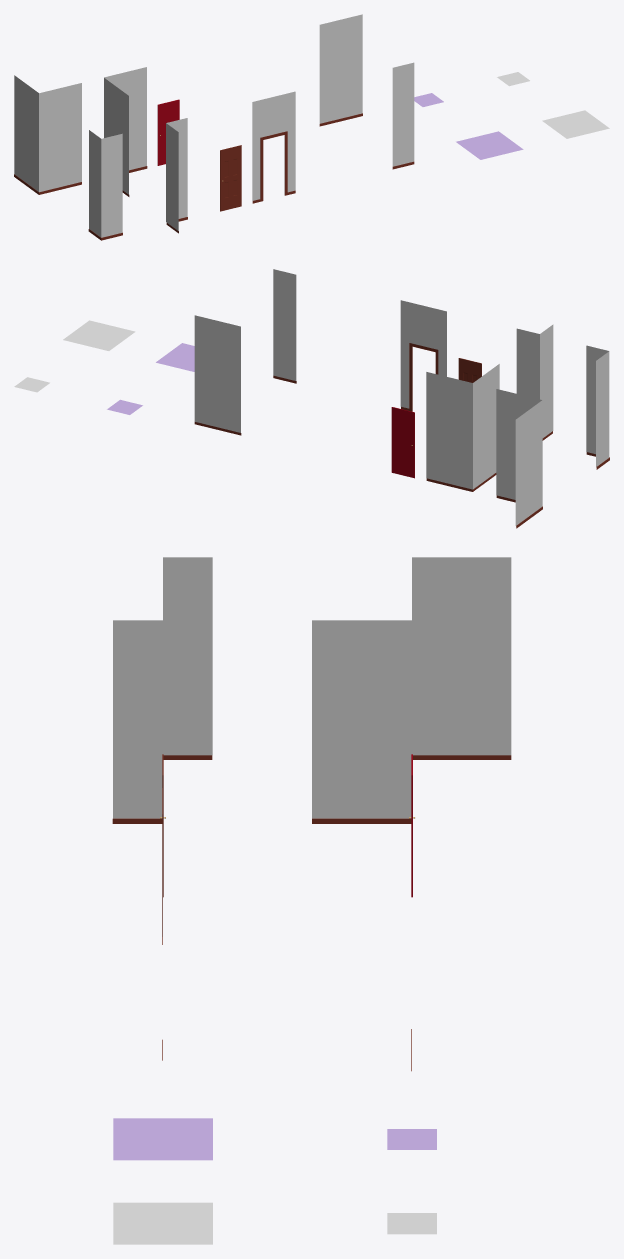
File: Modular_RoomPiecesTemp.fbx
The picture shows the model from 3 angles, top to bottom: view 1: azimuth 30°, elevation 25°; view 2: azimuth 150°, elevation 25°; view 3: azimuth 270°, elevation 25°; orthographic projection. The views are drawn at different scales.
Parts seen in each view (by area): view 1: Wall_InsideCorner_2x2, Wall_2, Wall_Corner_2x2, Wall_InsideCorner_1x1, Doorway, Wall_1, Wall_Corner_1x1, Door, FloorTile_2x2, CeilingTile_2x2, ExitDoor; view 2: Wall_Corner_2x2, Wall_InsideCorner_2x2, Wall_2, Doorway, Wall_Corner_1x1, Wall_InsideCorner_1x1, Wall_1, ExitDoor, CeilingTile_2x2, FloorTile_2x2, Door; view 3: Wall_Corner_2x2, Wall_InsideCorner_2x2, Wall_Corner_1x1, Wall_InsideCorner_1x1, FloorTile_2x2, CeilingTile_2x2, CeilingTile_1x1, FloorTile_1x1.
Part boxes in pixels (left/top/right/bottom): Wall_InsideCorner_2x2: left=14, top=75, right=81, bottom=194; Wall_2: left=319, top=14, right=362, bottom=126; Wall_Corner_2x2: left=104, top=67, right=147, bottom=196; Wall_InsideCorner_1x1: left=88, top=130, right=122, bottom=240; Doorway: left=252, top=91, right=295, bottom=203; Wall_1: left=392, top=62, right=414, bottom=169; Wall_Corner_1x1: left=166, top=118, right=187, bottom=233; Door: left=220, top=145, right=241, bottom=211; FloorTile_2x2: left=456, top=131, right=523, bottom=159; CeilingTile_2x2: left=542, top=110, right=609, bottom=138; ExitDoor: left=157, top=99, right=179, bottom=165; Wall_Corner_2x2: left=426, top=364, right=499, bottom=491; Wall_InsideCorner_2x2: left=496, top=389, right=542, bottom=528; Wall_2: left=194, top=315, right=241, bottom=435; Doorway: left=400, top=300, right=446, bottom=411; Wall_Corner_1x1: left=516, top=324, right=553, bottom=440; Wall_InsideCorner_1x1: left=586, top=345, right=609, bottom=469; Wall_1: left=273, top=269, right=296, bottom=383; ExitDoor: left=391, top=407, right=414, bottom=478; CeilingTile_2x2: left=63, top=320, right=135, bottom=350; FloorTile_2x2: left=156, top=343, right=194, bottom=371; Door: left=458, top=358, right=481, bottom=382; Wall_Corner_2x2: left=312, top=620, right=411, bottom=823; Wall_InsideCorner_2x2: left=412, top=557, right=511, bottom=759; Wall_Corner_1x1: left=112, top=620, right=162, bottom=823; Wall_InsideCorner_1x1: left=163, top=557, right=212, bottom=759; FloorTile_2x2: left=113, top=1118, right=212, bottom=1160; CeilingTile_2x2: left=113, top=1202, right=212, bottom=1244; CeilingTile_1x1: left=387, top=1213, right=436, bottom=1234; FloorTile_1x1: left=387, top=1129, right=436, bottom=1149.
Bounding box in the file's own units: 2302 × 800 × 450.
